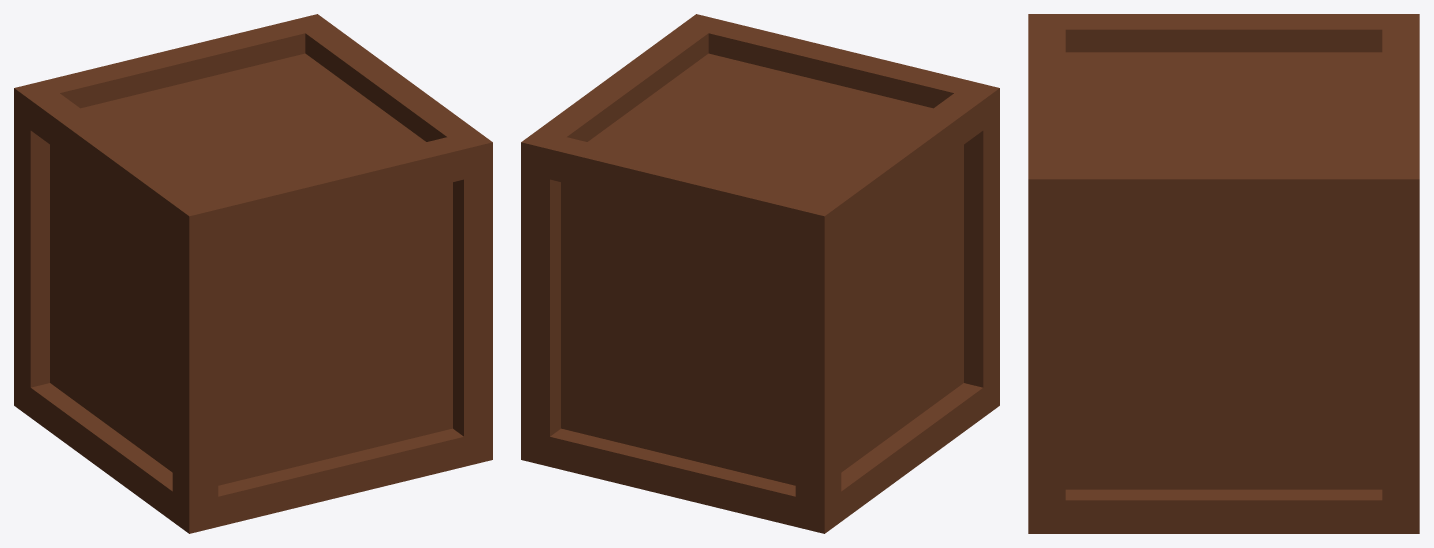
File: Crate.gltf
3 views of the same model, side by side, from view 1: azimuth 30°, elevation 25°; view 2: azimuth 150°, elevation 25°; view 3: azimuth 270°, elevation 25° (orthographic). The views are drawn at different scales.
Visible parts, largest first — view 1: Cube; view 2: Cube; view 3: Cube.
Boxes of the visible parts, x1,y1,x2,y2 form: Cube: [14, 14, 492, 533]; Cube: [521, 14, 999, 533]; Cube: [1028, 14, 1419, 533].
Size of the model in its own units: 2 by 2 by 2.
